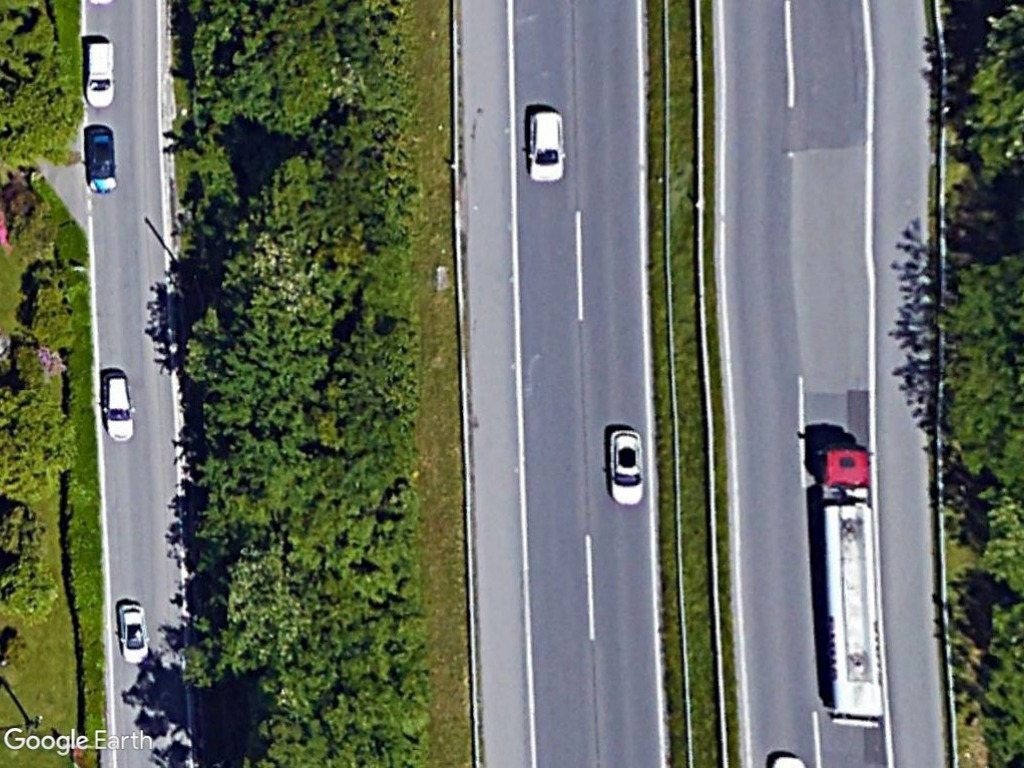car: (519, 100, 567, 190), (603, 421, 647, 510), (100, 364, 137, 449)
longvehicle: (808, 437, 888, 729)
van: (81, 34, 120, 114)
